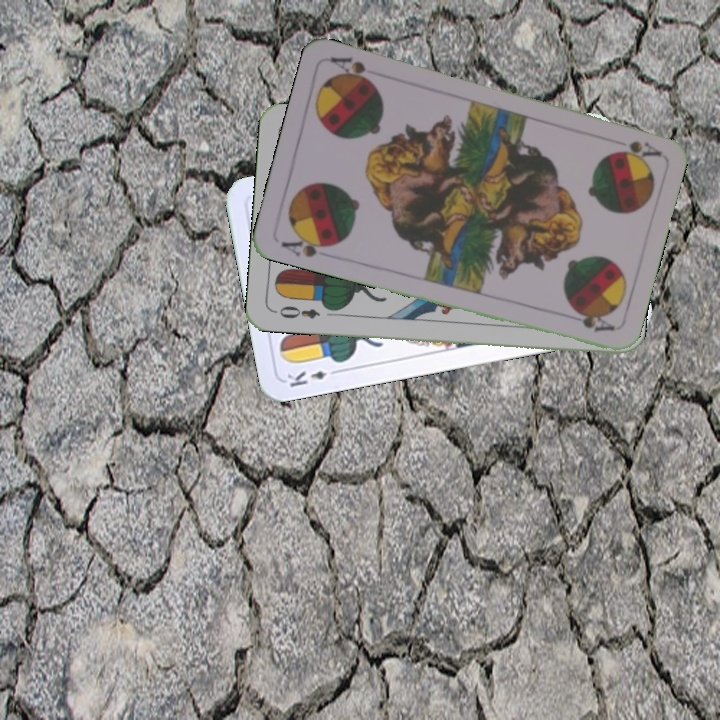EK: (283, 365, 342, 390)
EO: (270, 301, 322, 322)
SA: (277, 229, 337, 260), (617, 136, 663, 160)
